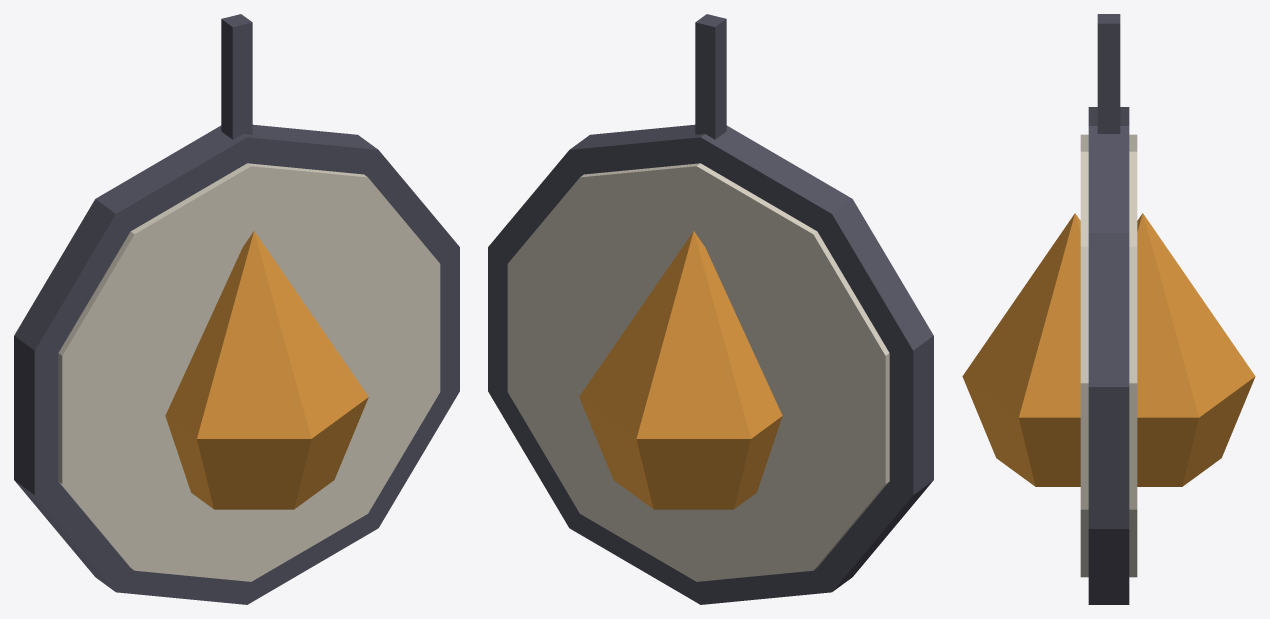
File: ember_sign.glb
3 renders of one model, left to right at view 1: azimuth 30°, elevation 25°; view 2: azimuth 150°, elevation 25°; view 3: azimuth 270°, elevation 25°, orthographic.
Parts seen in each view (by area): view 1: bone_d10, ink_l25, ember_d10; view 2: bone_d10, ink_l25, ember_d10; view 3: ember_d10, ink_l25, bone_d10.
Boxes of the visible parts, x1,y1,x2,y2 form: bone_d10: [58, 163, 440, 581]; ink_l25: [14, 14, 459, 604]; ember_d10: [165, 231, 368, 509]; bone_d10: [507, 163, 889, 581]; ink_l25: [488, 14, 933, 604]; ember_d10: [579, 231, 782, 509]; ember_d10: [962, 213, 1255, 486]; ink_l25: [1088, 14, 1129, 604]; bone_d10: [1080, 134, 1137, 577].
Size of the model in its own units: 0.428 by 0.555 by 0.26.
